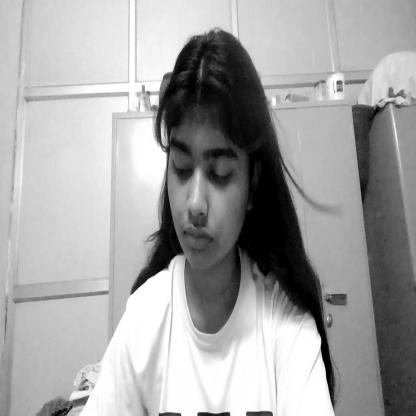Distracted: (157, 32, 269, 279)
